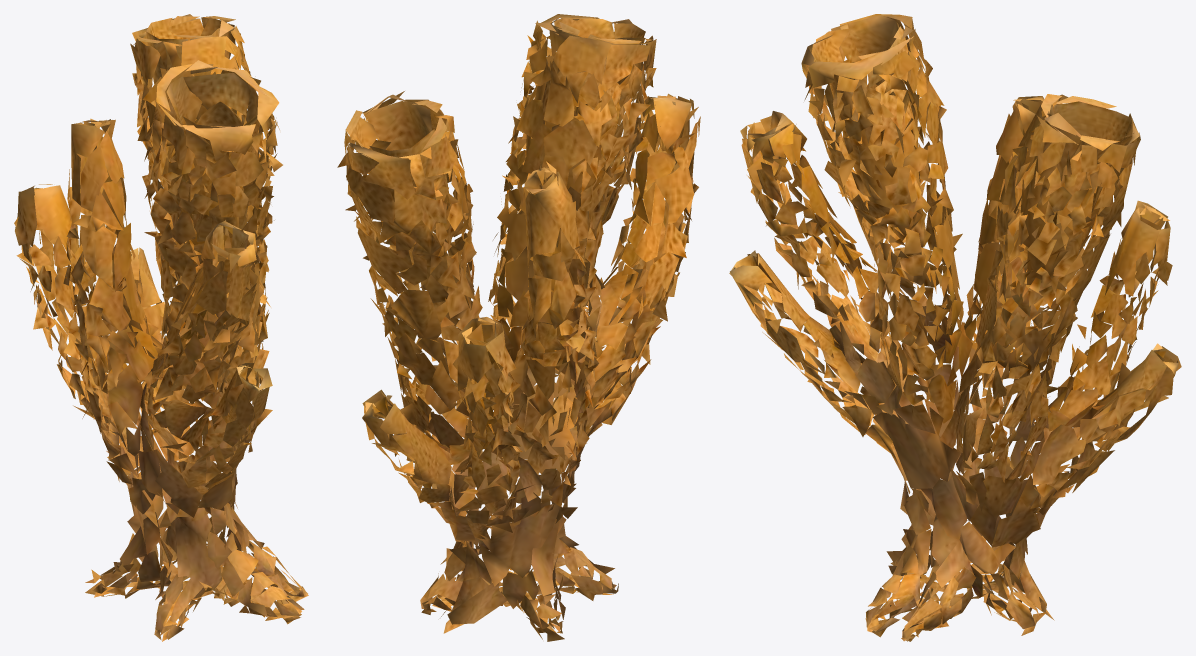
The model's file is sponge.glb.
The picture shows the model from 3 angles, left to right: view 1: azimuth 30°, elevation 25°; view 2: azimuth 150°, elevation 25°; view 3: azimuth 270°, elevation 25°; orthographic projection.
Visible parts, largest first — view 1: Mesh_0; view 2: Mesh_0; view 3: Mesh_0.
Part boxes in pixels (x1,y1,x2,y2): Mesh_0: [14, 14, 308, 641]; Mesh_0: [337, 14, 700, 641]; Mesh_0: [729, 14, 1181, 641].
Bounding box in the file's own units: 0.4017 × 1.01 × 0.7268.
Materials: 1 (1 with a texture image).
